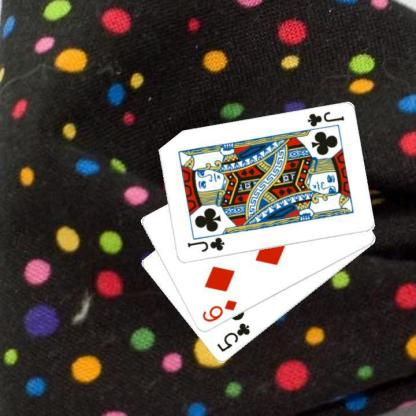5C: (214, 320, 252, 354)
6D: (199, 297, 238, 324)
JC: (184, 235, 226, 254), (304, 109, 345, 128)
